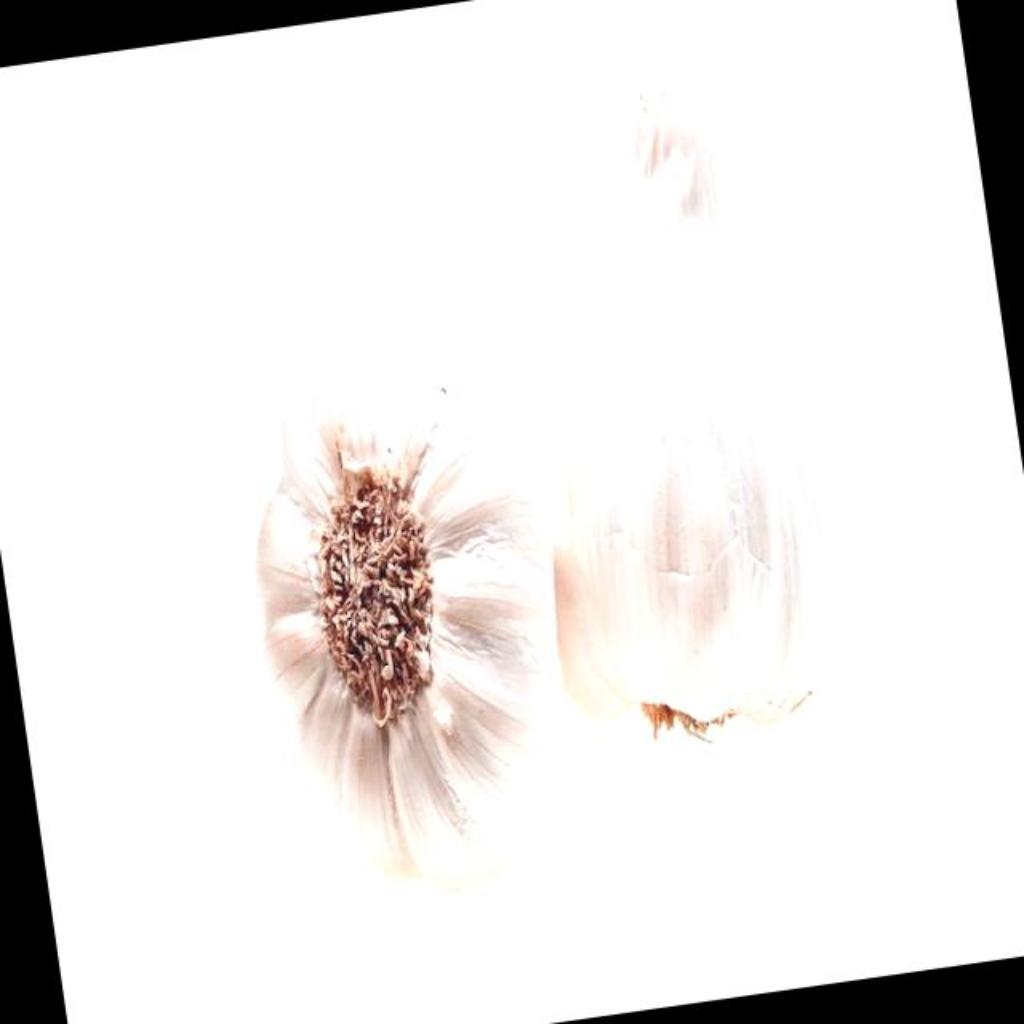garlic: (553, 124, 848, 739), (254, 339, 567, 873)
